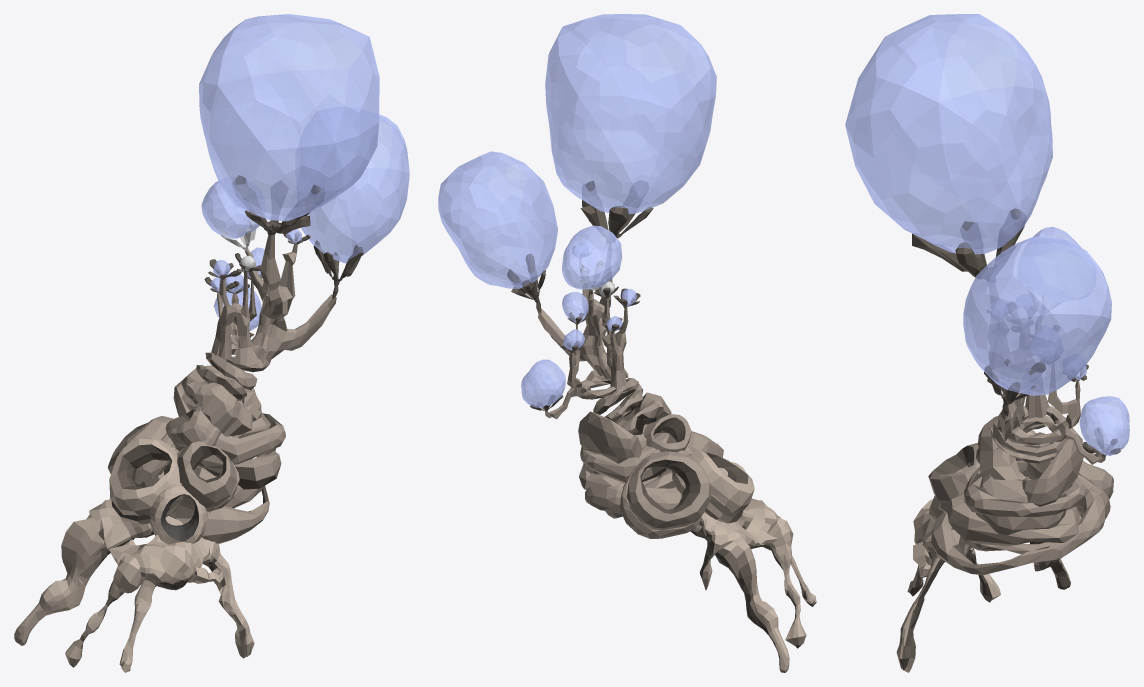
File: Arbre_biomeair_bulbium.fbx
3 views of the same model, side by side, from view 1: azimuth 30°, elevation 25°; view 2: azimuth 150°, elevation 25°; view 3: azimuth 270°, elevation 25° (orthographic). The views are drawn at different scales.
Parts seen in each view (by area): view 1: Icosphere.022, Torus.021, Icosphere.030, Torus.020, Torus.018, Torus.017, Icosphere.040, Icosphere.039, Icosphere.035, Torus.015, Icosphere.037, Icosphere.032 (+5 smaller); view 2: Icosphere.022, Icosphere.030, Torus.021, Icosphere.038, Torus.020, Icosphere.032, Torus.017, Icosphere.040, Torus.018, Torus.016, Icosphere.035, Icosphere.033 (+7 smaller); view 3: Icosphere.022, Icosphere.030, Torus.020, Torus.016, Torus.021, Torus.017, Icosphere.035, Torus.019, Icosphere.033, Torus.018, Icosphere.039, Torus.014 (+3 smaller).
Part boxes in pixels (box(x1,y1,x2,y2)): Icosphere.022: box(199, 14, 379, 221); Torus.021: box(14, 499, 254, 672); Icosphere.030: box(301, 114, 409, 263); Torus.020: box(137, 413, 285, 543); Torus.018: box(245, 228, 336, 364); Torus.017: box(181, 344, 270, 436); Icosphere.040: box(109, 438, 182, 524); Icosphere.039: box(177, 441, 239, 512); Icosphere.035: box(232, 175, 324, 235); Torus.015: box(211, 270, 258, 365); Icosphere.037: box(149, 482, 210, 544); Icosphere.032: box(201, 181, 259, 238); Icosphere.022: box(545, 14, 716, 214); Icosphere.030: box(438, 151, 557, 288); Torus.021: box(690, 498, 816, 672); Icosphere.038: box(620, 449, 710, 538); Torus.020: box(580, 433, 681, 518); Icosphere.032: box(562, 225, 622, 289); Torus.017: box(577, 370, 671, 435); Icosphere.040: box(672, 450, 754, 523); Torus.018: box(538, 243, 612, 379); Torus.016: box(578, 411, 654, 474); Icosphere.035: box(580, 181, 653, 243); Icosphere.033: box(521, 359, 565, 407); Icosphere.022: box(845, 14, 1052, 254); Icosphere.030: box(963, 236, 1111, 395); Torus.020: box(931, 466, 1105, 575); Torus.016: box(976, 431, 1083, 535); Torus.021: box(896, 499, 1070, 672); Torus.017: box(978, 405, 1067, 481); Icosphere.035: box(912, 208, 1026, 282); Torus.019: box(947, 494, 1079, 546); Icosphere.033: box(1079, 396, 1129, 455); Torus.018: box(987, 282, 1041, 441); Icosphere.039: box(928, 443, 979, 514); Torus.014: box(1047, 363, 1105, 464).
Size of the model in its own units: 647 by 997 by 378.
